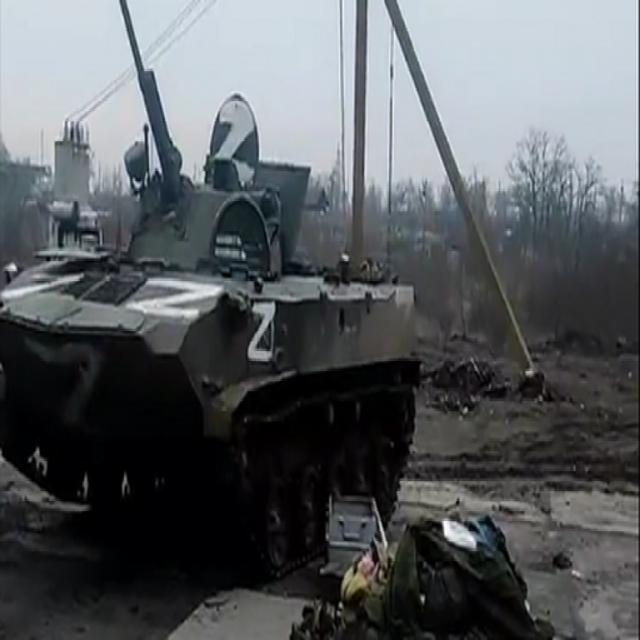APC-IFV: (0, 0, 421, 578)
